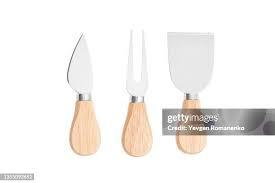Knife: (66, 32, 101, 155), (121, 27, 152, 156)
